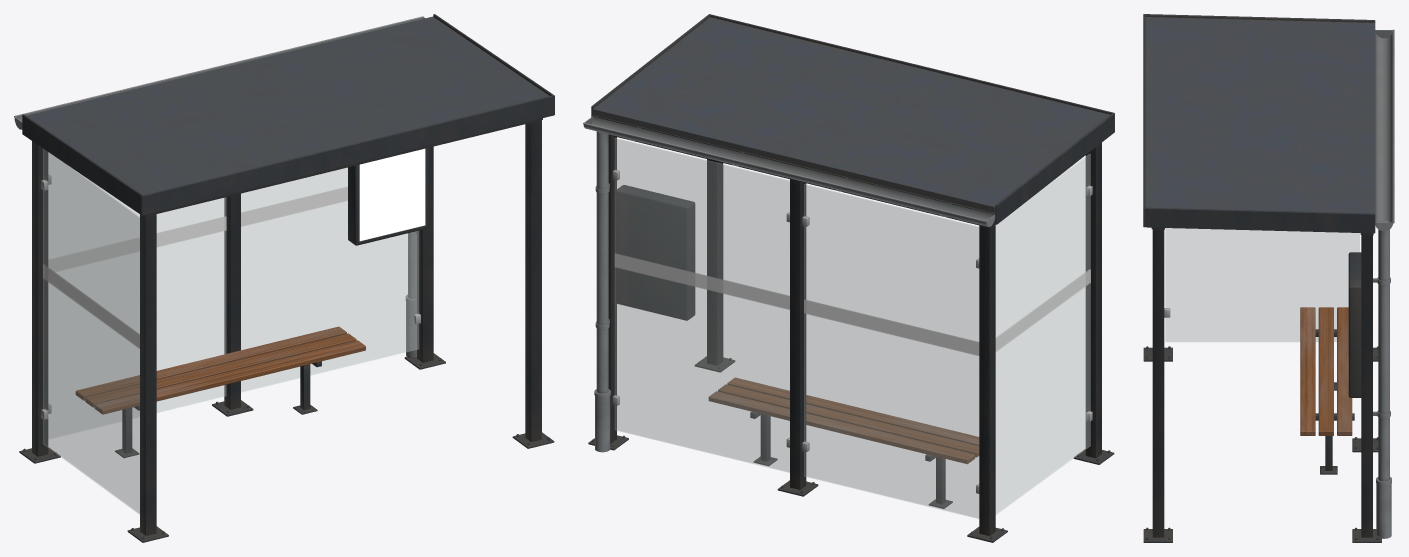
The model's file is bus-stop-shelter.glb.
The picture shows the model from 3 angles, left to right: view 1: azimuth 30°, elevation 25°; view 2: azimuth 150°, elevation 25°; view 3: azimuth 270°, elevation 25°; orthographic projection. The views are drawn at different scales.
Parts seen in each view (by area): view 1: bus-stop-shelter_body, bus-stop-shelter_back_0_glass, bus-stop-shelter_side_glass, bus-stop-shelter_back_1_glass, bus-stop-shelter_bench, bus-stop-shelter_info_light; view 2: bus-stop-shelter_body, bus-stop-shelter_back_1_glass, bus-stop-shelter_back_0_glass, bus-stop-shelter_side_glass, bus-stop-shelter_bench; view 3: bus-stop-shelter_body, bus-stop-shelter_side_glass, bus-stop-shelter_bench.
Part boxes in pixels (x1,y1,x2,y2): bus-stop-shelter_body: (14,14,554,542); bus-stop-shelter_back_0_glass: (48,153,226,438); bus-stop-shelter_side_glass: (43,149,139,514); bus-stop-shelter_back_1_glass: (241,168,418,392); bus-stop-shelter_bench: (75,326,365,457); bus-stop-shelter_info_light: (359,148,425,240); bus-stop-shelter_body: (583,14,1114,542); bus-stop-shelter_back_1_glass: (614,138,789,472); bus-stop-shelter_back_0_glass: (804,184,979,518); bus-stop-shelter_side_glass: (995,154,1090,514); bus-stop-shelter_bench: (708,377,979,508); bus-stop-shelter_body: (1143,14,1394,542); bus-stop-shelter_side_glass: (1165,228,1359,341); bus-stop-shelter_bench: (1300,307,1354,474).
Size of the model in its own units: 3.13 by 2.52 by 1.71.
5 materials, 2 textured.
